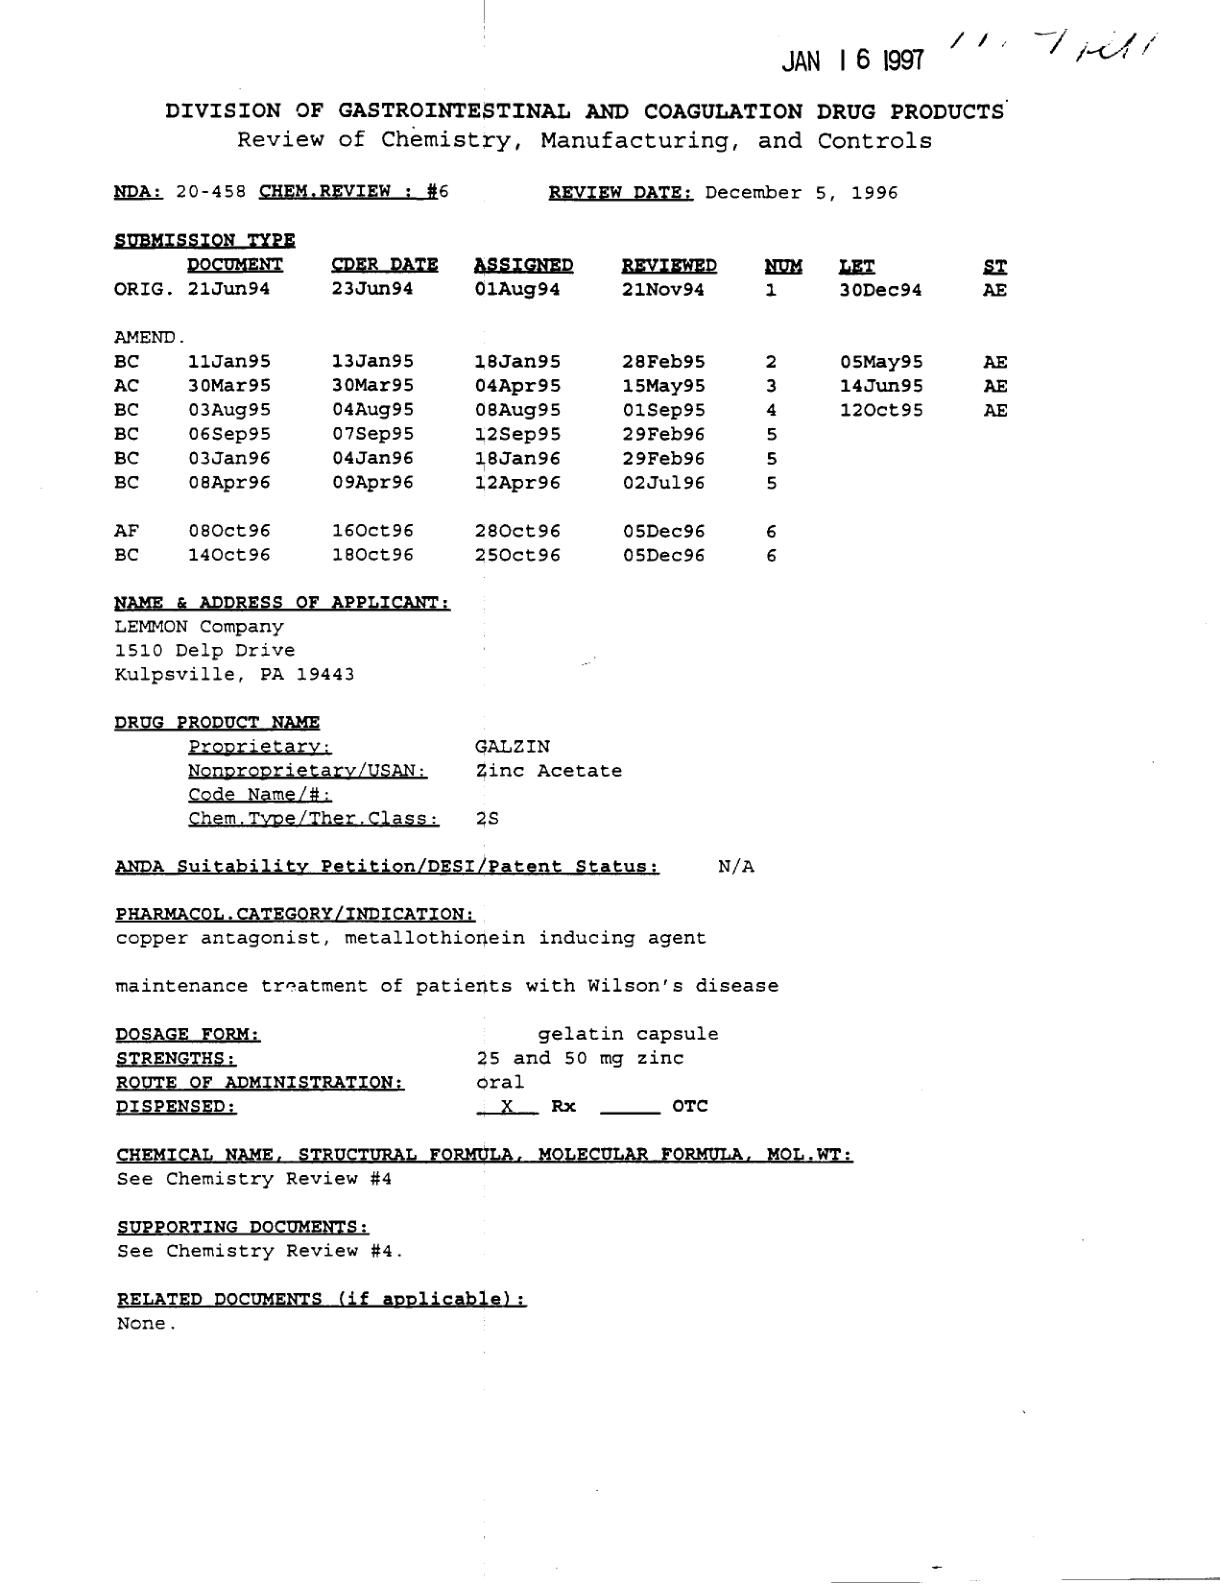nolines: (111, 227, 1019, 566)
